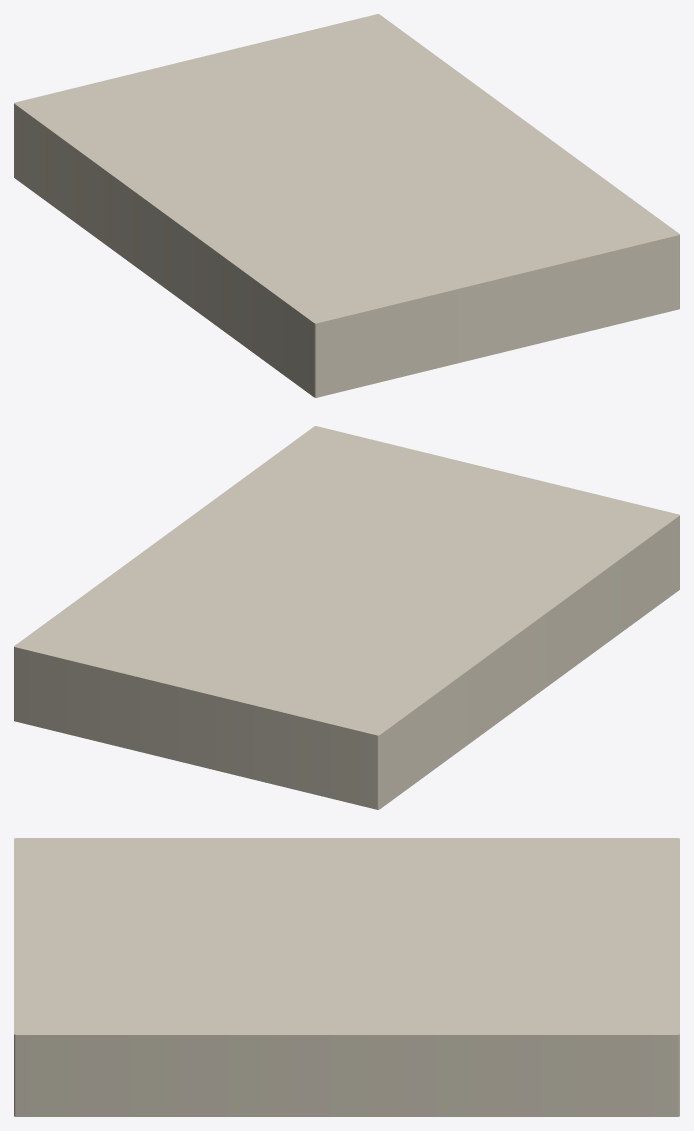
Rendered from jp_bedroom_book_hardcover_pages.glb.
3 renders of one model, top to bottom at view 1: azimuth 30°, elevation 25°; view 2: azimuth 150°, elevation 25°; view 3: azimuth 270°, elevation 25°, orthographic. The views are drawn at different scales.
Visible parts, largest first — view 1: book_block; view 2: book_block; view 3: book_block.
Part boxes in pixels (left/top/right/bottom): book_block: left=14, top=14, right=679, bottom=397; book_block: left=14, top=426, right=679, bottom=809; book_block: left=14, top=838, right=679, bottom=1116.
Bounding box in the file's own units: 0.144 × 0.028 × 0.206.
